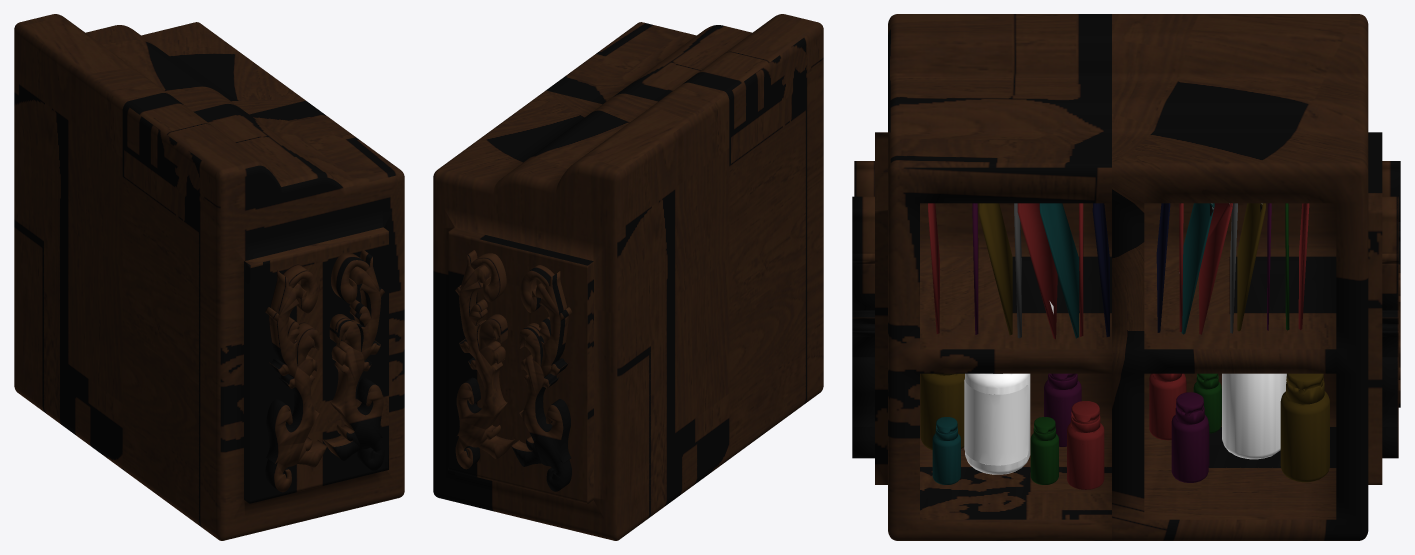
Rendered from top shell.fbx.
3 views of the same model, side by side, from view 1: azimuth 30°, elevation 25°; view 2: azimuth 150°, elevation 25°; view 3: azimuth 270°, elevation 25° (orthographic). The views are drawn at different scales.
Visible parts, largest first — view 1: Null_2; view 2: Null_2; view 3: Null_2, Medication_Bottle_9, Medication_Bottle_10_2, Medication_Bottle_9_2, Medication_Bottle_8_2, Medication_Bottle_7, Medication_Bottle_10, File_2, File_3, File_5, File_2_2, File_3_2 (+14 smaller).
Boxes of the visible parts, <box> form: Null_2: <box>14,14,404,540</box>; Null_2: <box>433,14,823,540</box>; Null_2: <box>852,14,1400,540</box>; Medication_Bottle_9: <box>964,373,1030,474</box>; Medication_Bottle_10_2: <box>1280,373,1329,482</box>; Medication_Bottle_9_2: <box>1222,373,1286,459</box>; Medication_Bottle_8_2: <box>1171,392,1209,482</box>; Medication_Bottle_7: <box>1067,401,1104,489</box>; Medication_Bottle_10: <box>920,373,964,449</box>; File_2: <box>1039,203,1078,338</box>; File_3: <box>1017,203,1057,339</box>; File_5: <box>978,203,1012,335</box>; File_2_2: <box>1181,203,1214,334</box>; File_3_2: <box>1199,203,1232,334</box>.
Size of the model in its own units: 54.4 by 103 by 119.
